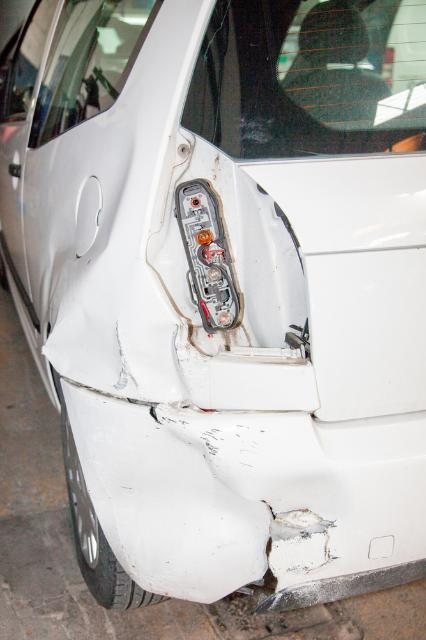crack: (259, 499, 278, 592)
dent: (66, 380, 271, 599), (42, 299, 189, 403), (268, 478, 345, 589)
lamp broken: (160, 143, 309, 356)
scratch: (163, 416, 270, 470)
